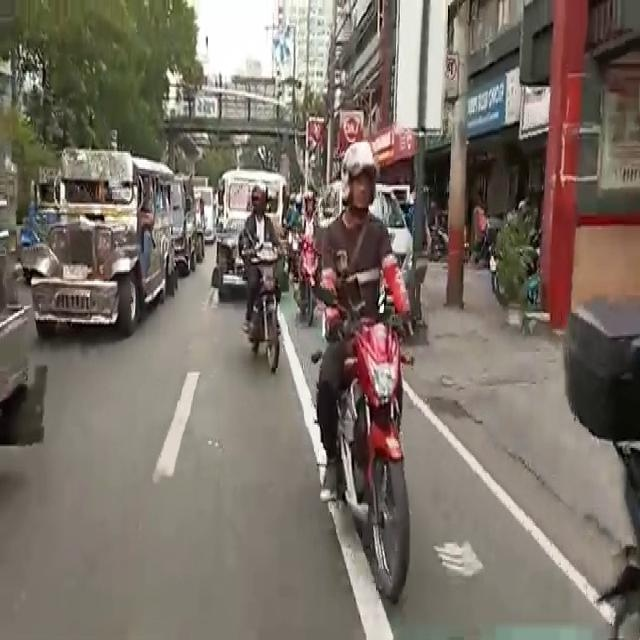jeepney: (32, 164, 172, 324), (288, 164, 428, 304)
motorcycle: (318, 165, 397, 562), (240, 193, 276, 376)
